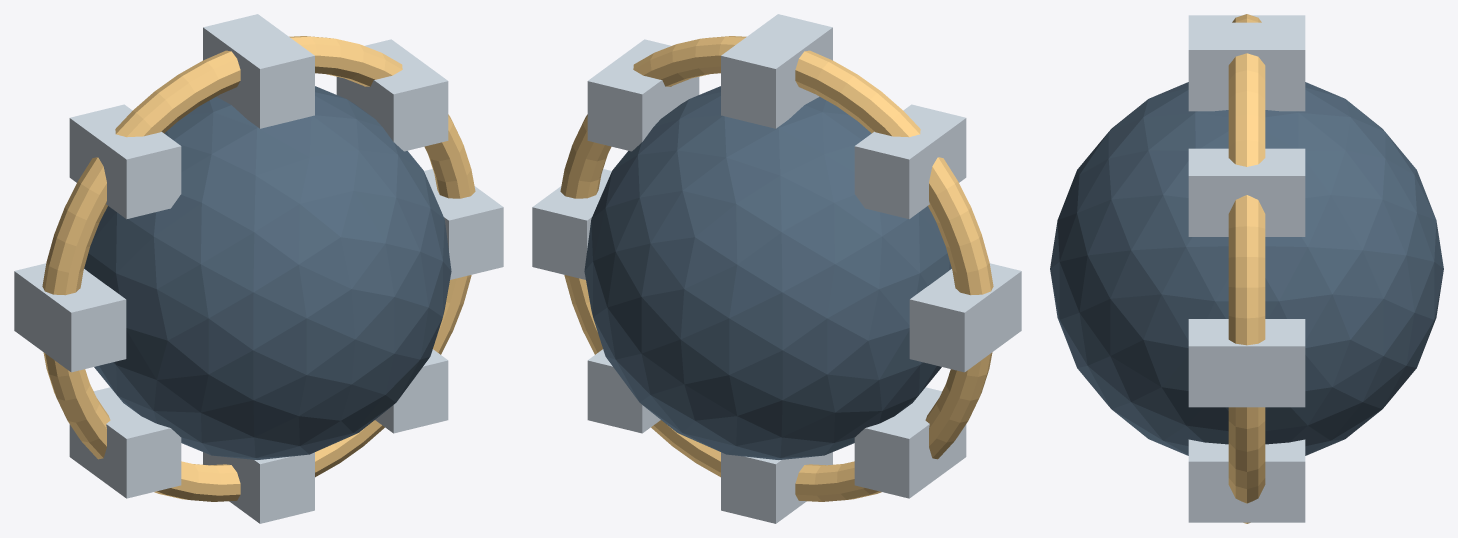
File: vsh-4.glb
The picture shows the model from 3 angles, left to right: view 1: azimuth 30°, elevation 25°; view 2: azimuth 150°, elevation 25°; view 3: azimuth 270°, elevation 25°; orthographic projection. The views are drawn at different scales.
Parts seen in each view (by area): view 1: Core0, CommandRing10, ShieldPod6, ShieldPod4, ShieldPod5, ShieldPod7, ShieldPod3, ShieldPod8, ShieldPod2, ShieldPod9; view 2: Core0, CommandRing10, ShieldPod6, ShieldPod4, ShieldPod5, ShieldPod7, ShieldPod3, ShieldPod8, ShieldPod2, ShieldPod9; view 3: Core0, CommandRing10, ShieldPod2, ShieldPod3, ShieldPod4, ShieldPod9, ShieldPod5.
Part boxes in pixels (<box>): Core0: <box>84,86,451,459</box>; CommandRing10: <box>42,36,475,501</box>; ShieldPod6: <box>14,263,126,372</box>; ShieldPod4: <box>203,14,314,128</box>; ShieldPod5: <box>69,104,181,219</box>; ShieldPod7: <box>69,387,181,498</box>; ShieldPod3: <box>336,39,448,151</box>; ShieldPod8: <box>203,452,314,523</box>; ShieldPod2: <box>424,169,503,279</box>; ShieldPod9: <box>375,349,448,433</box>; Core0: <box>584,86,951,459</box>; CommandRing10: <box>560,36,993,501</box>; ShieldPod6: <box>909,263,1021,372</box>; ShieldPod4: <box>721,14,832,128</box>; ShieldPod5: <box>854,104,966,219</box>; ShieldPod7: <box>854,387,966,498</box>; ShieldPod3: <box>587,39,699,151</box>; ShieldPod8: <box>721,452,832,523</box>; ShieldPod2: <box>532,169,611,279</box>; ShieldPod9: <box>587,349,660,433</box>; Core0: <box>1050,82,1443,455</box>; CommandRing10: <box>1228,14,1265,523</box>; ShieldPod2: <box>1188,319,1305,407</box>; ShieldPod3: <box>1188,148,1305,236</box>; ShieldPod4: <box>1188,22,1305,111</box>; ShieldPod9: <box>1188,439,1305,522</box>; ShieldPod5: <box>1188,15,1305,22</box>.
Bounding box in the file's own units: 1.97 × 1.98 × 1.52.
